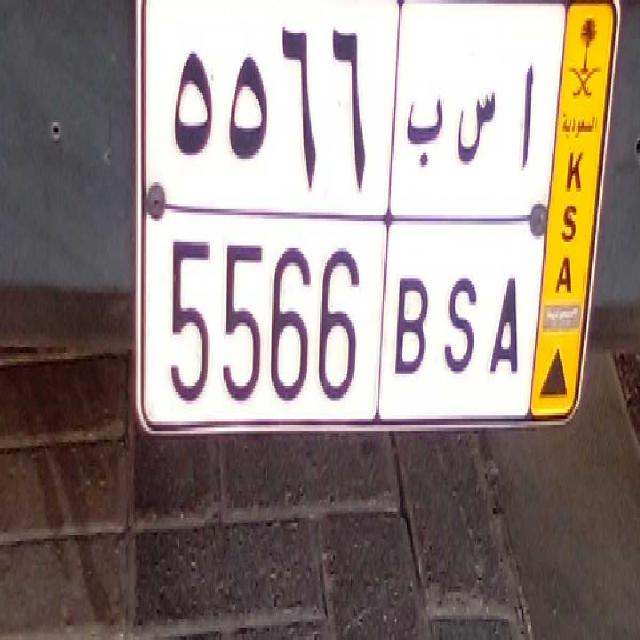license_plate: (143, 198, 534, 428)
